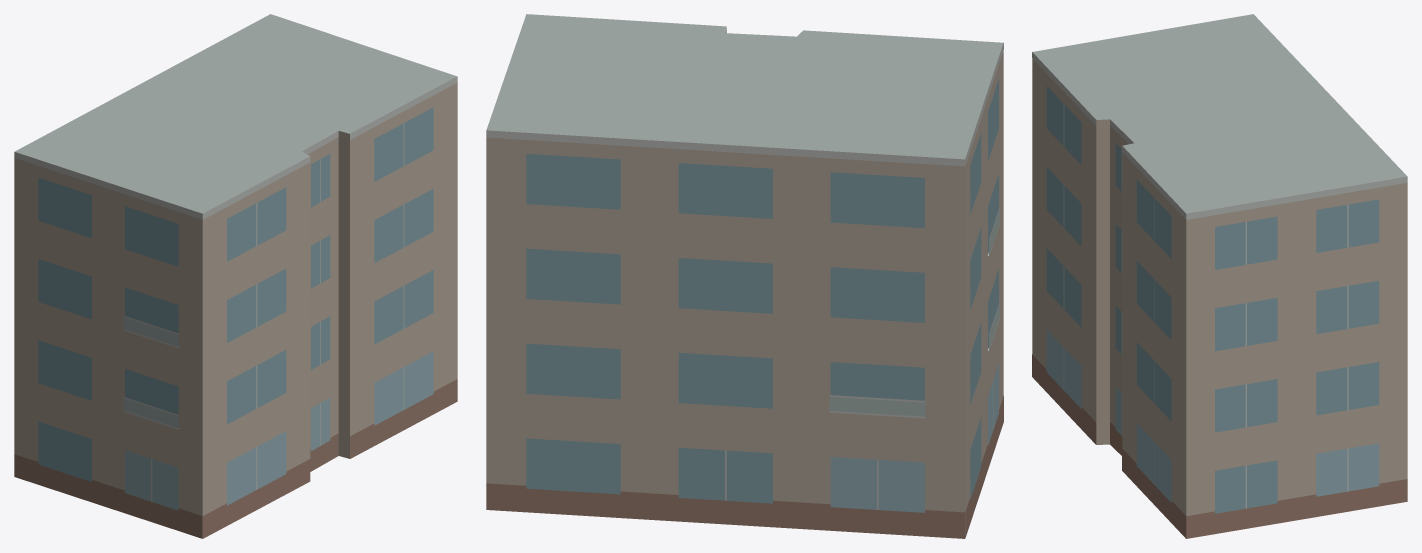
The model's file is survey-upis-32614152.glb.
3 renders of one model, left to right at view 1: azimuth 30°, elevation 25°; view 2: azimuth 150°, elevation 25°; view 3: azimuth 270°, elevation 25°, orthographic. The views are drawn at different scales.
Parts seen in each view (by area): view 1: survey-upis-32614152.tmp; view 2: survey-upis-32614152.tmp; view 3: survey-upis-32614152.tmp.
Boxes of the visible parts, left/top/right/bottom form: survey-upis-32614152.tmp: left=14, top=14, right=457, bottom=538; survey-upis-32614152.tmp: left=486, top=14, right=1003, bottom=538; survey-upis-32614152.tmp: left=1032, top=14, right=1407, bottom=538.
Bounding box in the file's own units: 16.96 × 12.86 × 13.47.
